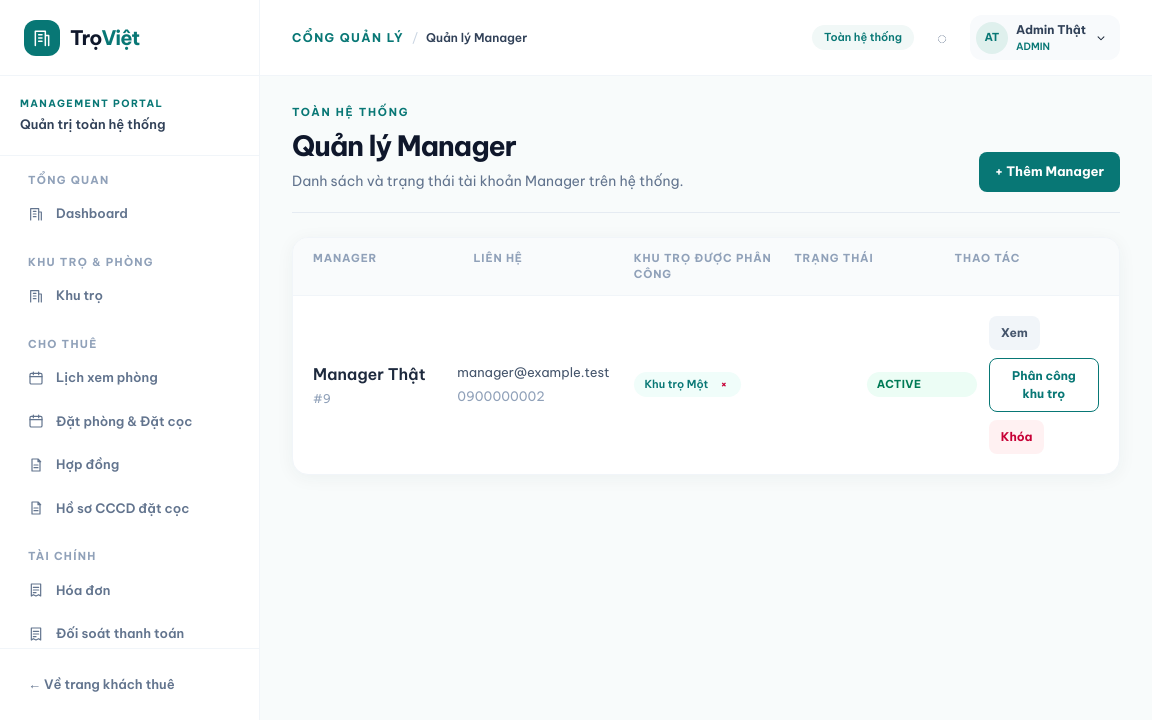
Test case: Phase 4A Admin user APIs › refreshes persisted assignments and reports a partial save with the failed property
The width and height of the screenshot is (1152, 720).
Click the button "Phân công khu trọ" at (1044, 384), box [989,358,1099,412]
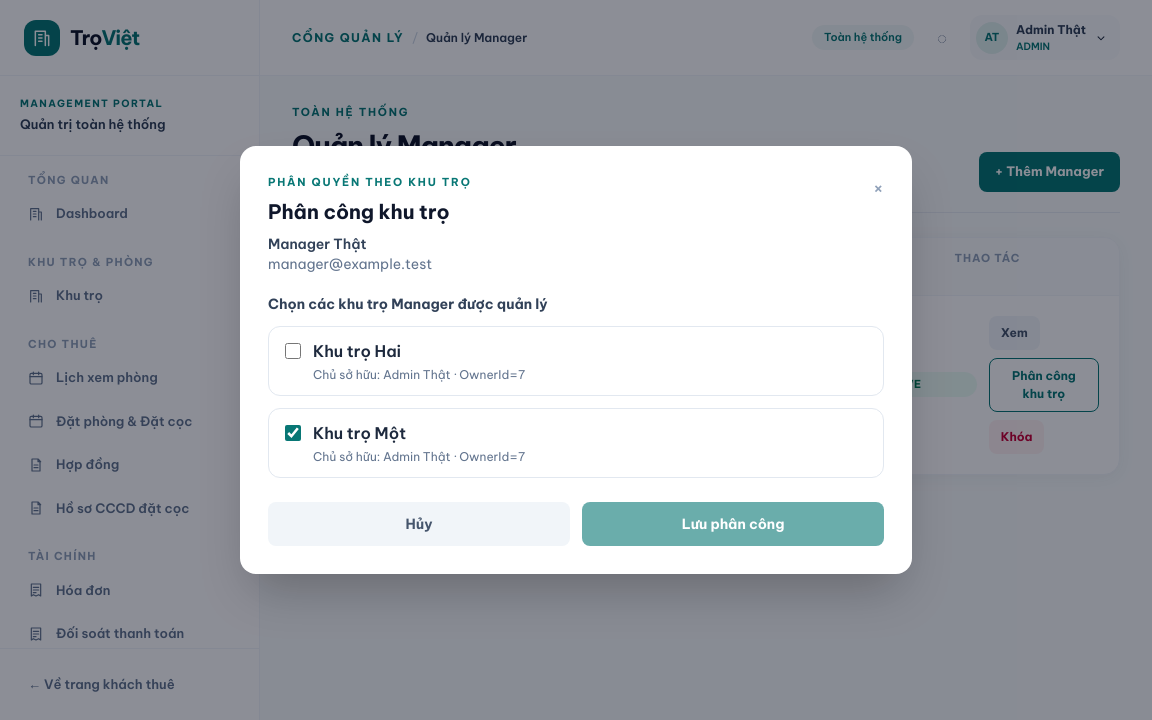
Click the checkbox labelled "Khu trọ Một Chủ sở hữu: Admin Thật · OwnerId=7" at (293, 433), box [285,425,301,441]
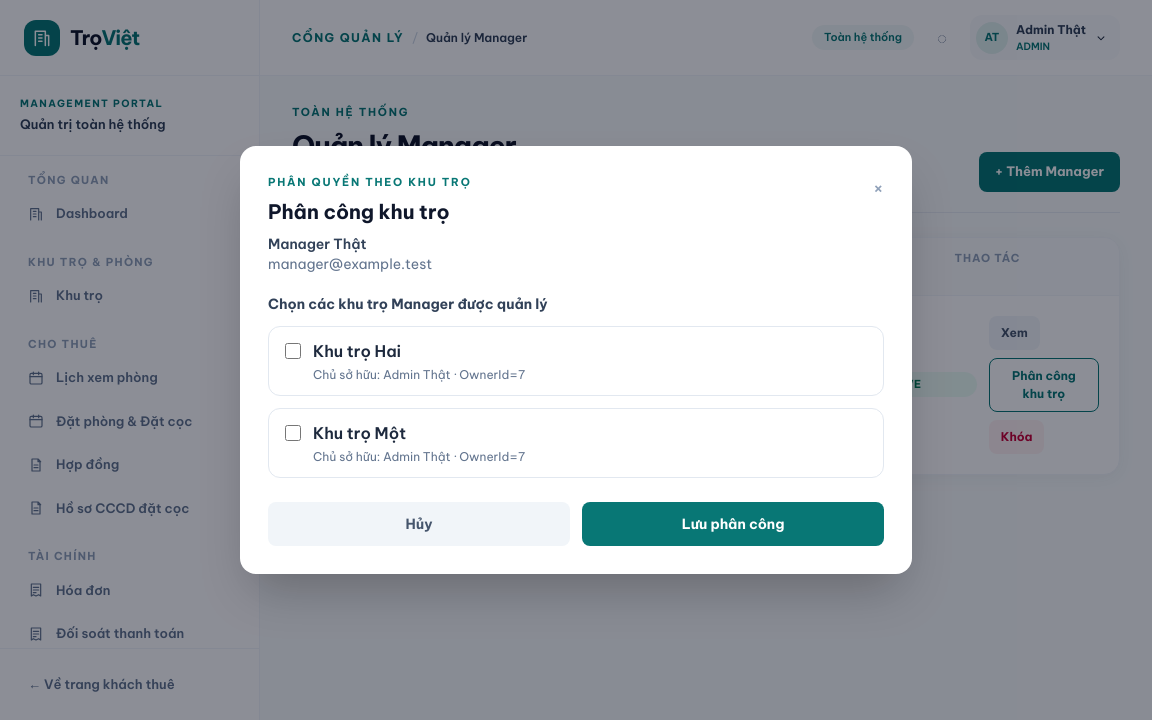
Click the checkbox labelled "Khu trọ Hai Chủ sở hữu: Admin Thật · OwnerId=7" at (293, 351), box [285,343,301,359]
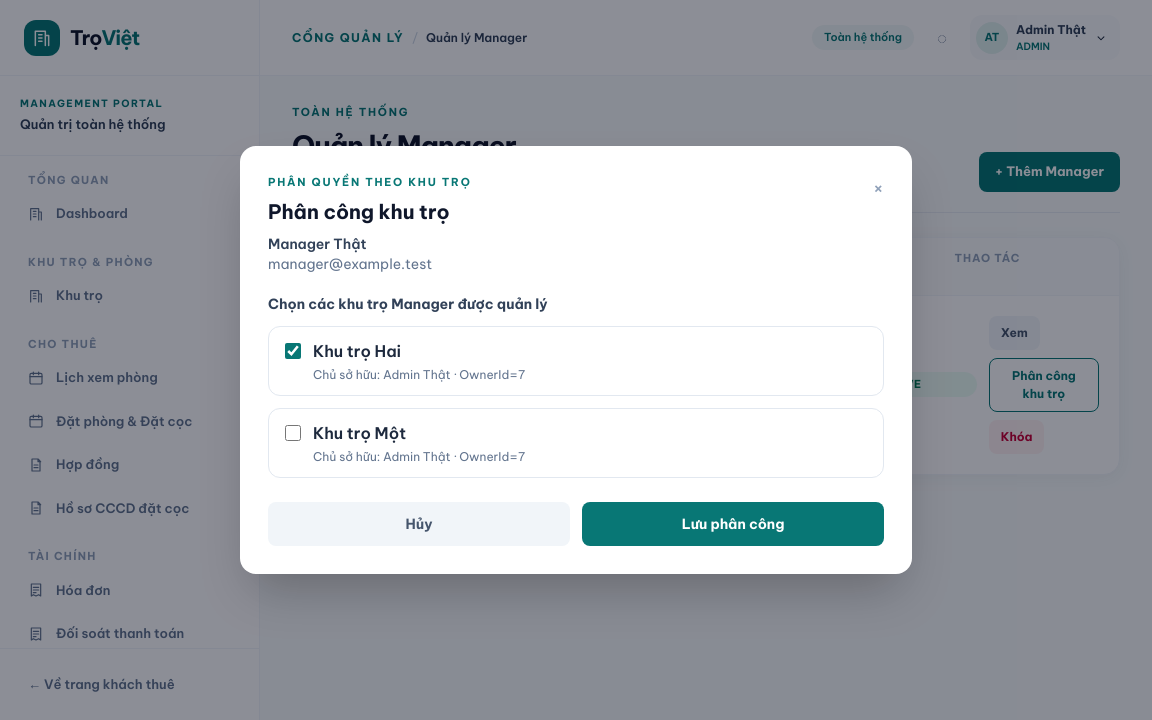
Click the button "Lưu phân công" at (733, 524), box [582,502,884,546]
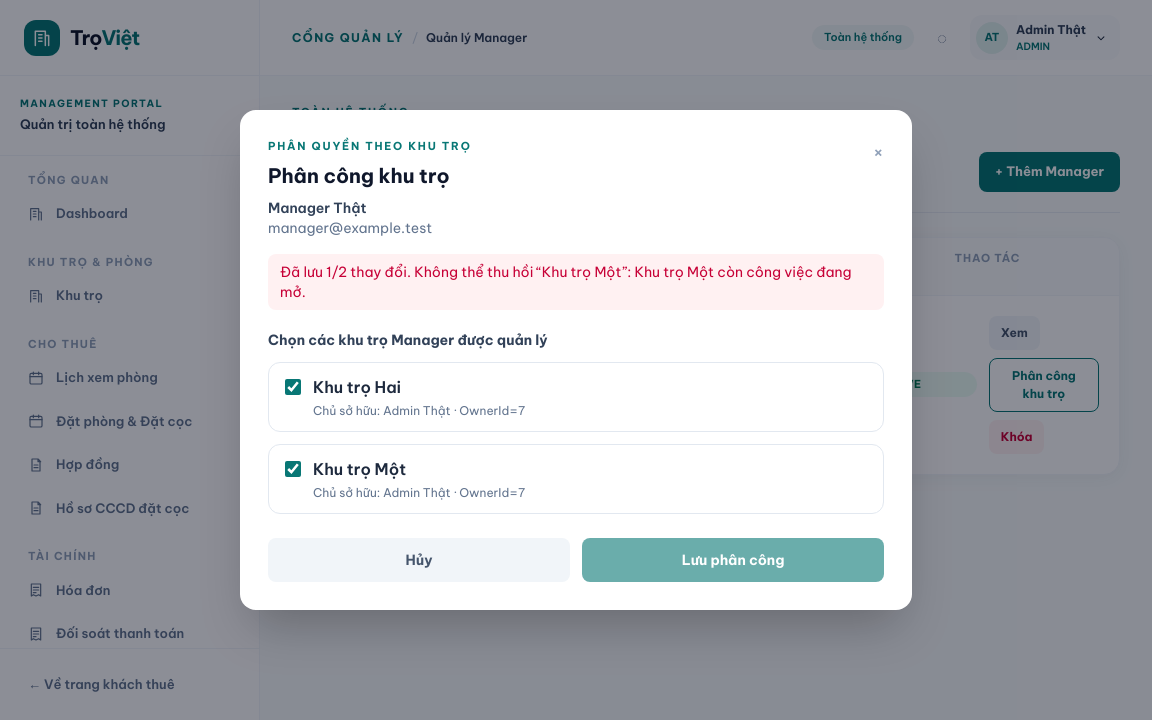
expect the checkbox labelled "Khu trọ Một Chủ sở hữu: Admin Thật · OwnerId=7" is checked: met, box [285,461,301,477]
expect the message shows "Khu trọ Một": met, box [280,263,852,301]
expect the message shows "công việc đang mở": met, box [280,263,852,301]
